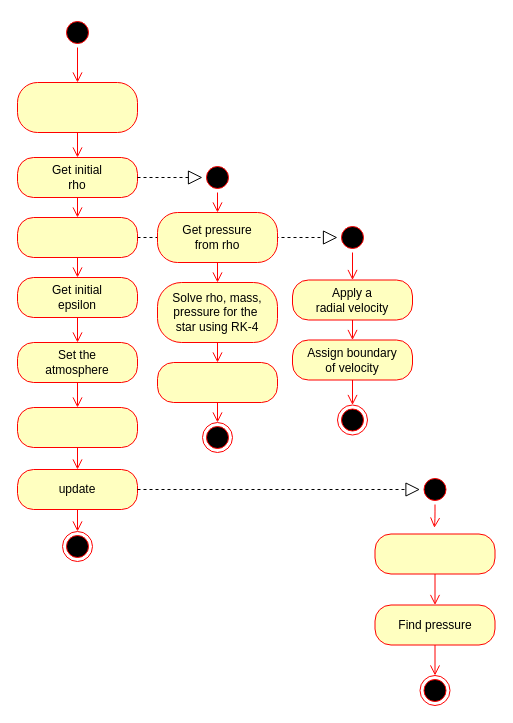
The diagram is 513 pixels wide and 723 high, and some of its shapes have lost their labels. The shapes that lost their labels are listed below. From the top down, each one's centre as x and y in pixels, then its label:
At pixel 77 107: "Assign polytropic index and exponent".
At pixel 77 237: "Get initial velocity".
At pixel 217 382: "Assign boundary of rho".
At pixel 77 427: "Get initial u".
At pixel 434 553: "Find potential".
